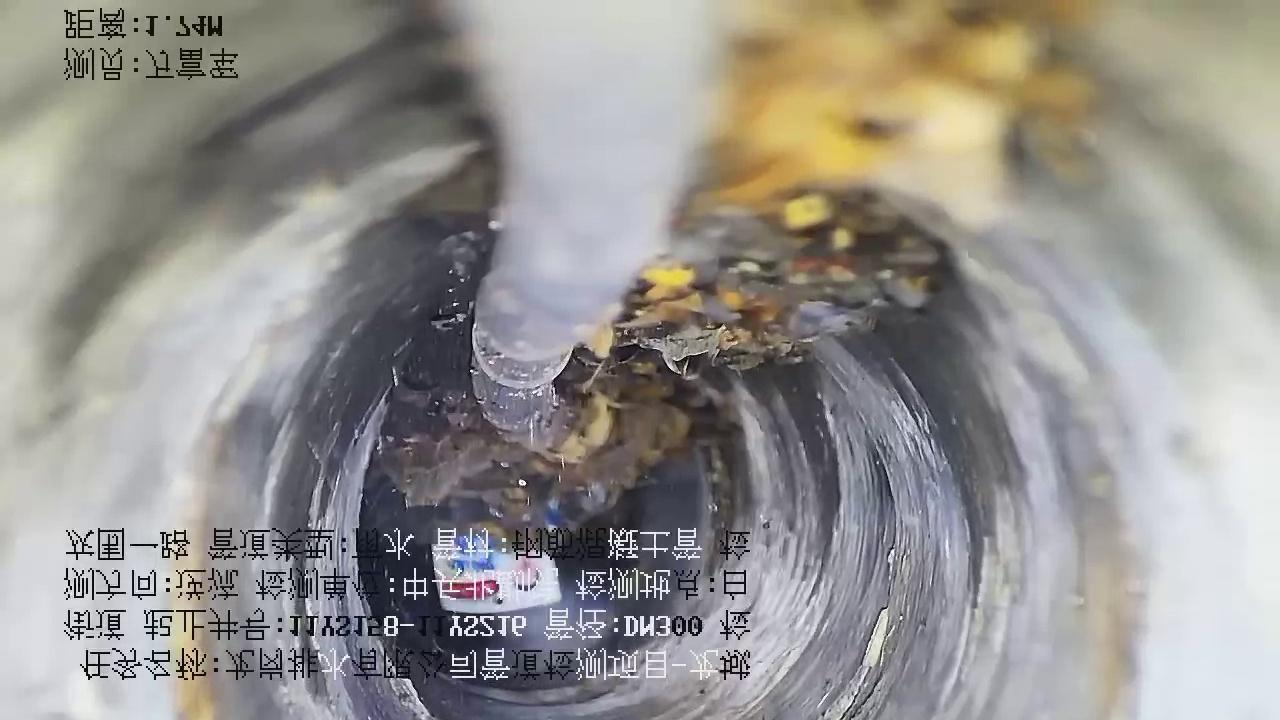CJ: (387, 1, 1088, 526)
YWCR: (446, 1, 722, 450)
